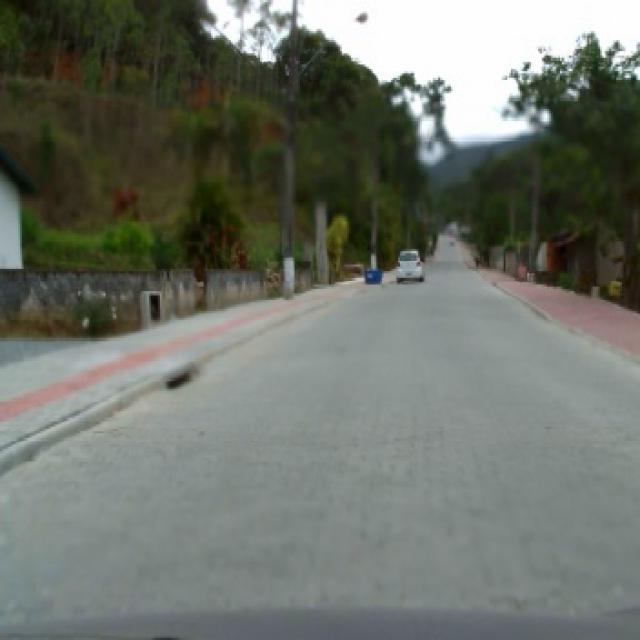Poth-hole: (166, 367, 197, 389)
